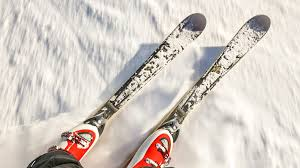skis: (33, 13, 276, 168)
